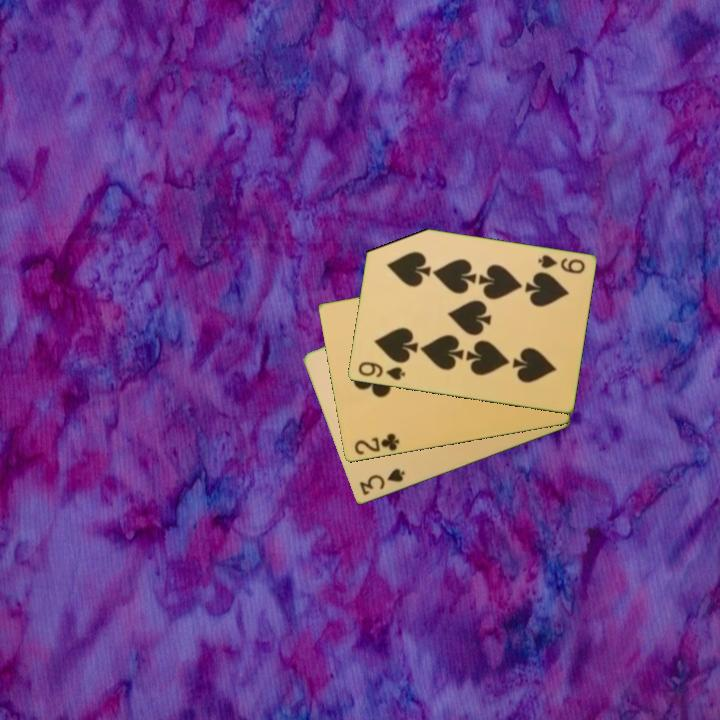2c: (351, 430, 402, 458)
3s: (356, 465, 408, 498)
9s: (534, 251, 588, 277), (354, 358, 408, 383)
